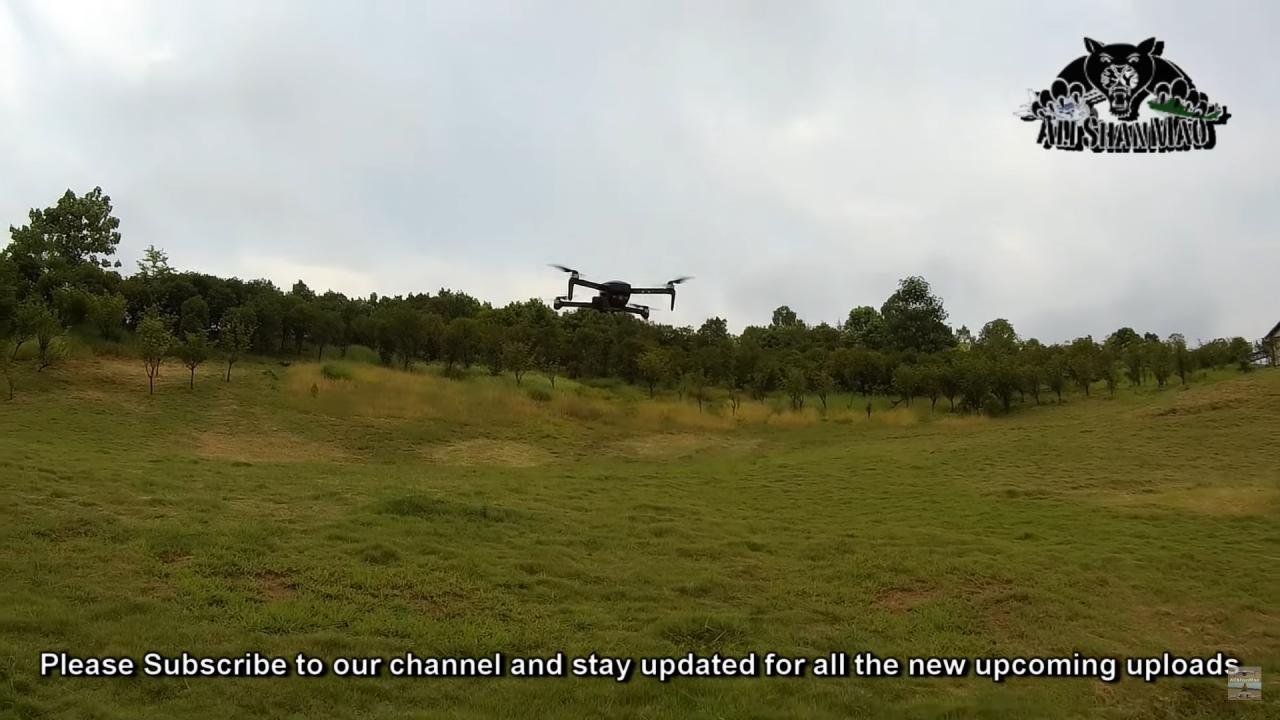Drone: (527, 248, 702, 329)
